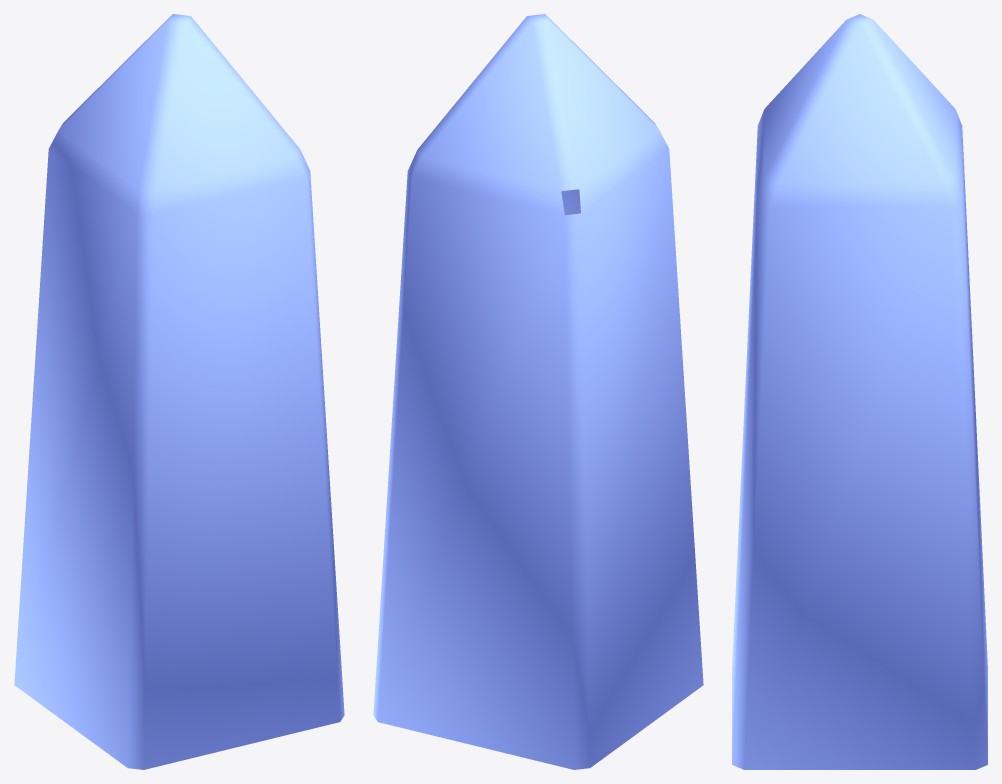
Rendered from Obelisk copy.glb.
3 renders of one model, left to right at view 1: azimuth 30°, elevation 25°; view 2: azimuth 150°, elevation 25°; view 3: azimuth 270°, elevation 25°, orthographic. The views are drawn at different scales.
Visible parts, largest first — view 1: Piece - Tower; view 2: Piece - Tower; view 3: Piece - Tower.
Boxes of the visible parts, box(x1,y1,x2,y2) form: Piece - Tower: box(14, 14, 344, 769); Piece - Tower: box(373, 14, 703, 769); Piece - Tower: box(732, 14, 987, 769).
Bounding box in the file's own units: 0.4266 × 1.28 × 0.4266.
